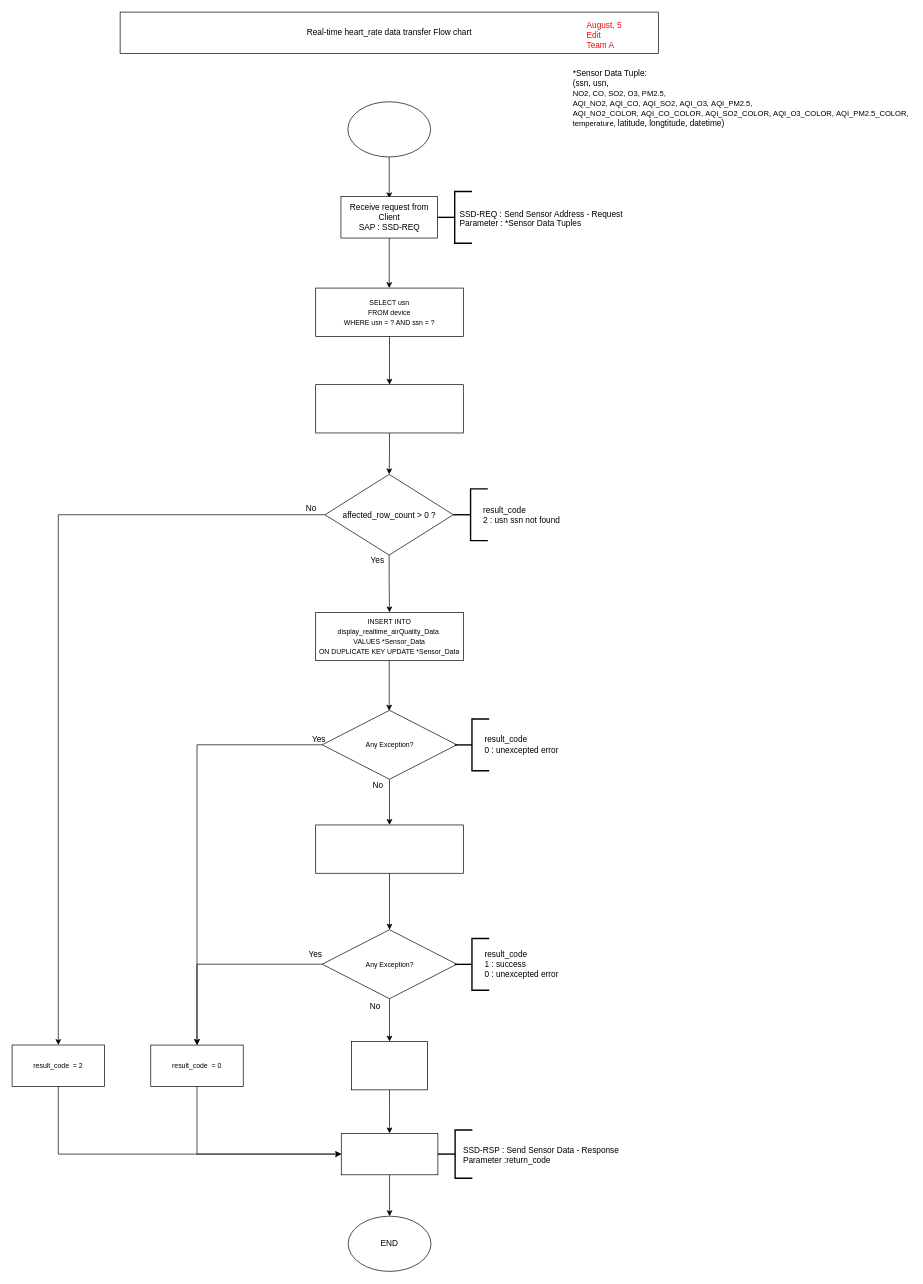
This 923x1284 diagram has some shape labels left out. The centre of each missing label's shape, as x and y in pixels:
"affected_row_count = $query -> rowCount()" goes at point (389, 408).
"INSERT INTO airQuality_sensor_data VALUES *Sensor_Data" goes at point (389, 848).
"Response to Client SAP : SSD-RSP" goes at point (389, 1154).
"result_code = 1" goes at point (389, 1065).
"START" goes at point (389, 129).
